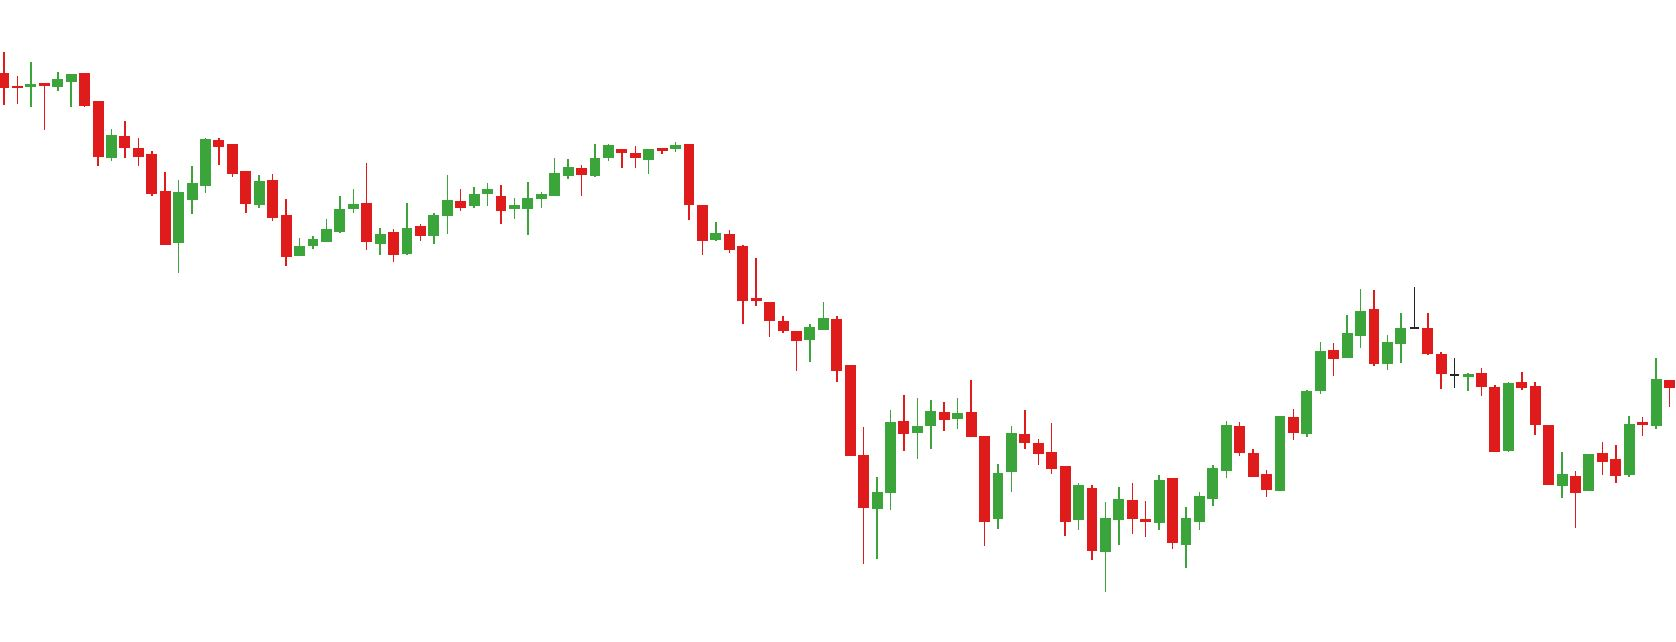sell: (1356, 284, 1422, 350)
